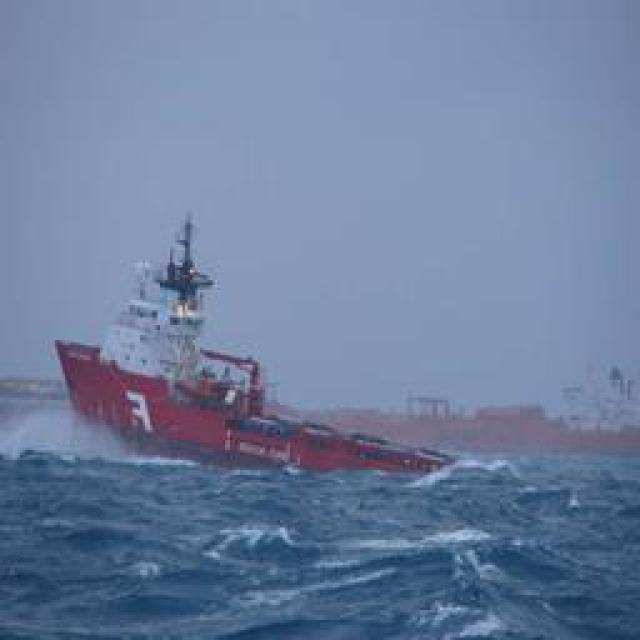Ship: (44, 211, 487, 486)
